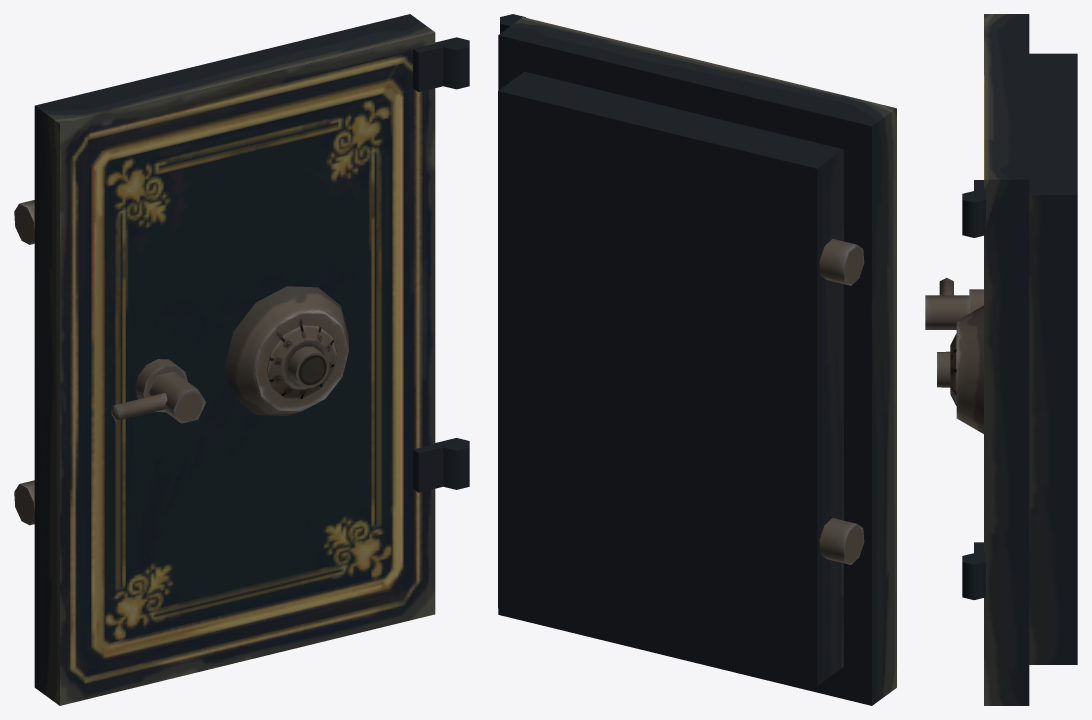
Rendered from SM_PROP_safe_door_interior.fbx.
3 renders of one model, left to right at view 1: azimuth 30°, elevation 25°; view 2: azimuth 150°, elevation 25°; view 3: azimuth 270°, elevation 25°, orthographic. The views are drawn at different scales.
Visible parts, largest first — view 1: SM_PROP_safe_door_interior, SM_PROP_safe_round_interior, SM_PROP_safe_handle_interior; view 2: SM_PROP_safe_door_interior; view 3: SM_PROP_safe_door_interior, SM_PROP_safe_handle_interior, SM_PROP_safe_round_interior.
Part boxes in pixels (x1,y1,x2,y2): SM_PROP_safe_door_interior: (14, 14, 469, 705); SM_PROP_safe_round_interior: (267, 325, 336, 398); SM_PROP_safe_handle_interior: (111, 371, 206, 423); SM_PROP_safe_door_interior: (498, 14, 896, 705); SM_PROP_safe_door_interior: (956, 14, 1077, 705); SM_PROP_safe_handle_interior: (925, 277, 969, 329); SM_PROP_safe_round_interior: (937, 333, 956, 405).
Size of the model in its own units: 52.72 by 72.51 by 18.99.
